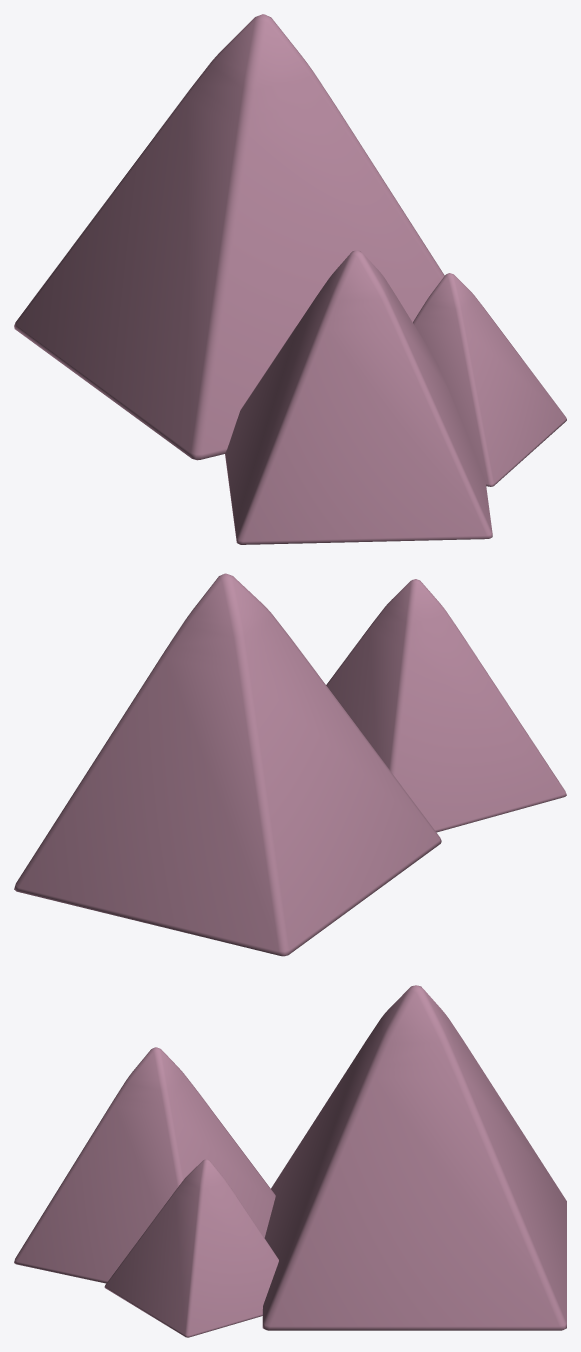
File: bush-69_col.fbx
3 renders of one model, top to bottom at view 1: azimuth 30°, elevation 25°; view 2: azimuth 150°, elevation 25°; view 3: azimuth 270°, elevation 25°, orthographic. The views are drawn at different scales.
Parts seen in each view (by area): view 1: bush-69.col; view 2: bush-69.col; view 3: bush-69.col.
Part boxes in pixels (box(x1,y1,x2,y2)): bush-69.col: box(14, 14, 566, 544); bush-69.col: box(14, 573, 566, 956); bush-69.col: box(14, 985, 566, 1337).
Bounding box in the file's own units: 0.1571 × 0.138 × 0.2415.
1 material, 1 textured.
